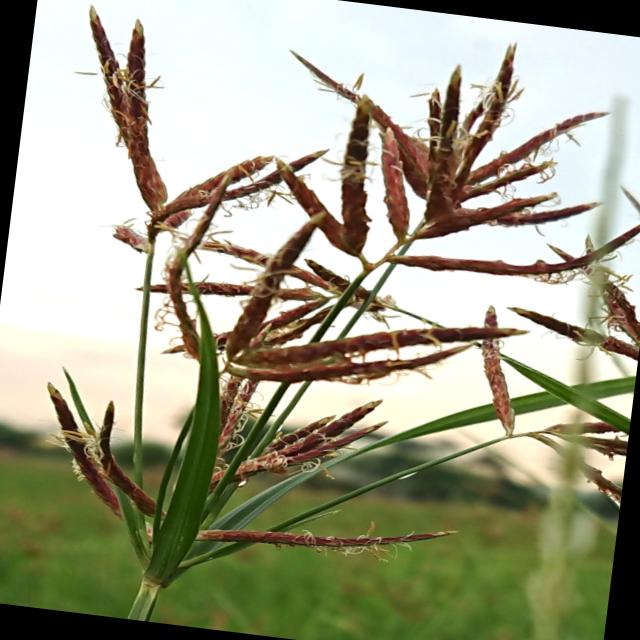cyperus: (3, 0, 640, 615)
